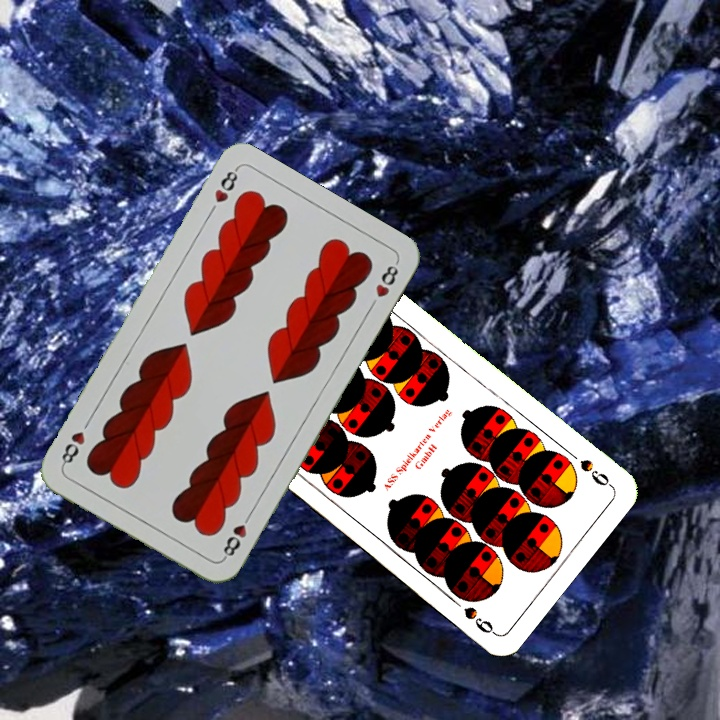H8: (204, 164, 241, 218), (219, 508, 255, 562)
S9: (575, 455, 615, 490)
